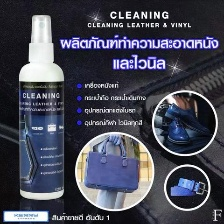cleaning_solution: (15, 12, 66, 201)
